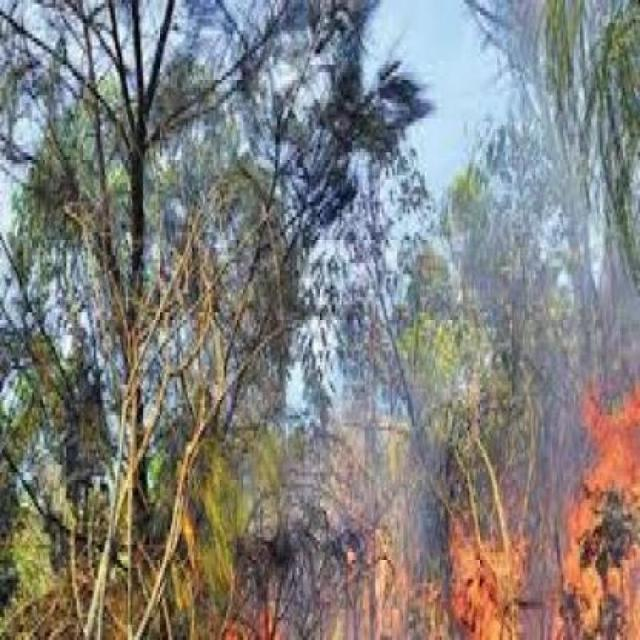Fire: (165, 445, 640, 640)
